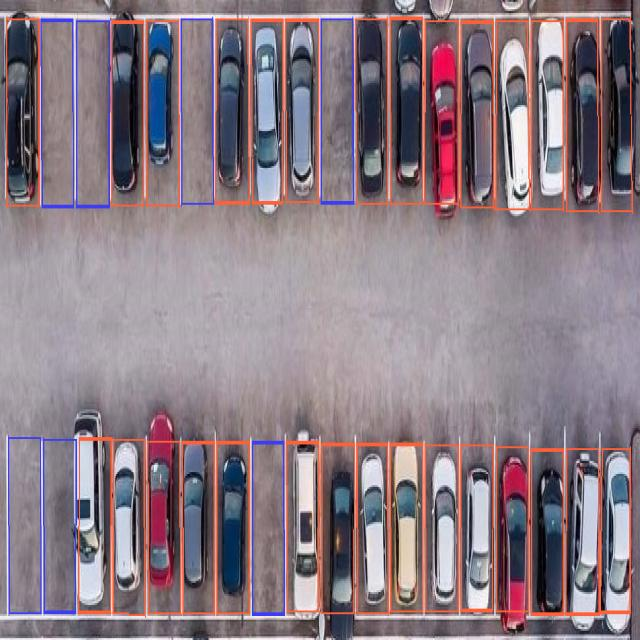space-empty: (315, 17, 357, 199), (246, 437, 288, 614), (176, 19, 217, 199), (72, 18, 112, 201), (39, 17, 74, 213), (6, 437, 44, 616), (40, 421, 76, 609)
space-occupied: (423, 18, 463, 205), (387, 14, 426, 204), (494, 17, 533, 205), (531, 15, 569, 206), (564, 434, 602, 624), (247, 9, 282, 210), (4, 14, 41, 204), (140, 19, 179, 199), (566, 19, 602, 212), (529, 433, 566, 620), (494, 433, 531, 618), (212, 19, 250, 199), (177, 439, 216, 612), (284, 437, 322, 614), (460, 435, 497, 616), (106, 19, 143, 199), (283, 19, 320, 199), (352, 17, 388, 199), (461, 18, 496, 205), (106, 439, 143, 612), (387, 437, 424, 609), (423, 437, 460, 609), (77, 427, 112, 608), (214, 441, 249, 614), (322, 439, 357, 612), (356, 437, 391, 609), (600, 11, 629, 208), (602, 447, 630, 633), (148, 434, 178, 604)
